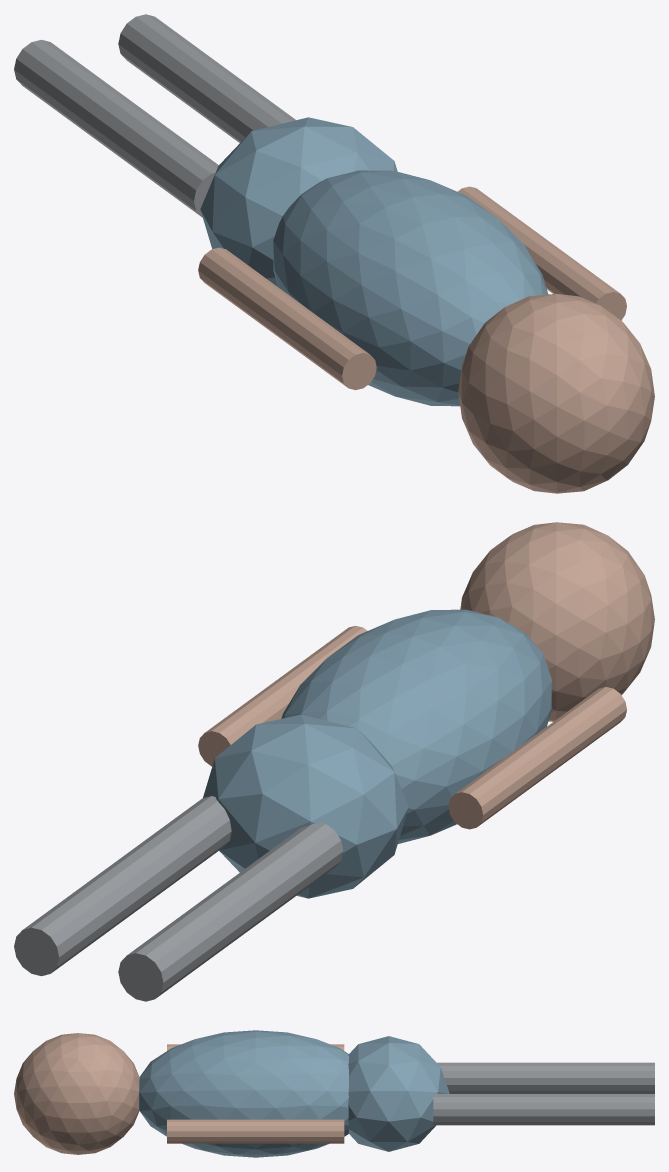
The model's file is adolescent-medium.glb.
3 views of the same model, one above another, from view 1: azimuth 30°, elevation 25°; view 2: azimuth 150°, elevation 25°; view 3: azimuth 270°, elevation 25° (orthographic). The views are drawn at different scales.
Visible parts, largest first — view 1: torso, head, pelvis, left_leg, right_leg, left_arm, right_arm; view 2: torso, pelvis, head, left_leg, right_leg, left_arm, right_arm; view 3: torso, head, pelvis, right_leg, left_leg, right_arm.
Part boxes in pixels (x1,y1,x2,y2): torso: (273,170,548,406); head: (458,293,654,493); pelvis: (200,117,397,286); left_leg: (14,39,218,217); right_leg: (118,14,295,142); left_arm: (198,247,376,390); right_arm: (457,186,626,320); torso: (281,609,551,843); pelvis: (203,714,408,898); head: (460,522,654,721); left_leg: (118,823,343,1001); right_leg: (14,796,231,976); left_arm: (448,687,626,829); right_arm: (198,625,367,766); torso: (139,1030,348,1157); head: (14,1033,139,1154); pelvis: (348,1036,449,1151); right_leg: (433,1094,654,1125); left_leg: (437,1062,654,1093); right_arm: (167,1119,344,1143).
Size of the model in its own units: 0.9512 by 0.5808 by 3.01.
